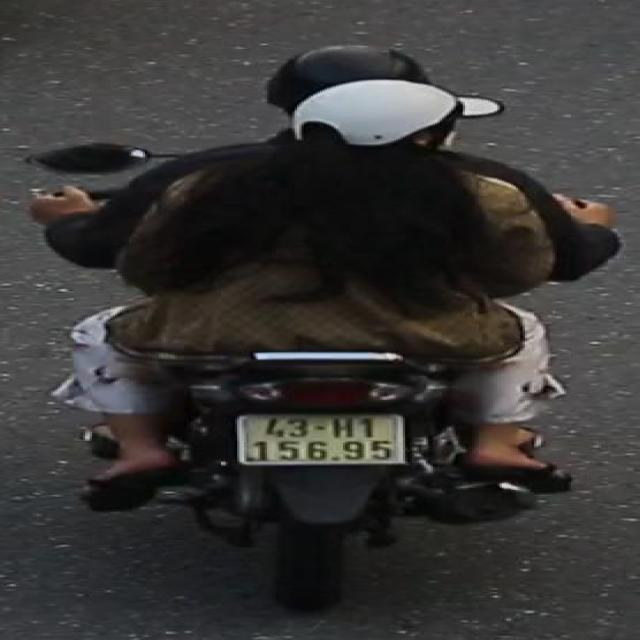LP: (232, 406, 416, 469)
helmet: (308, 78, 462, 188), (256, 41, 416, 110)
